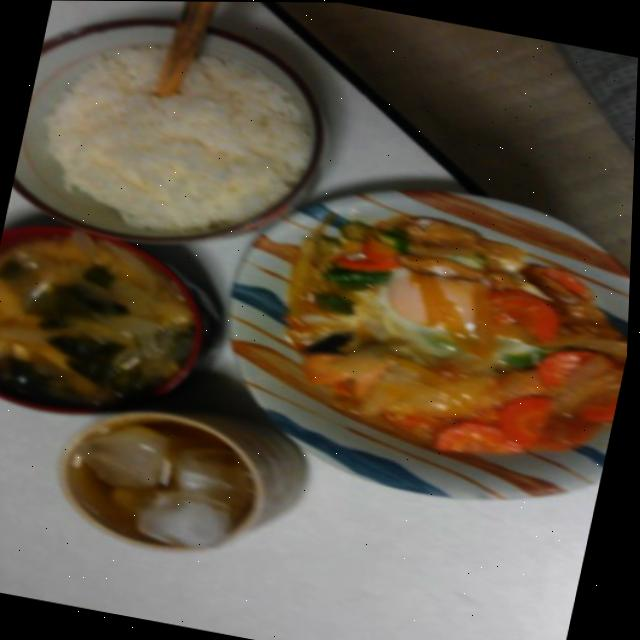米饭主食: (5, 0, 377, 274)
